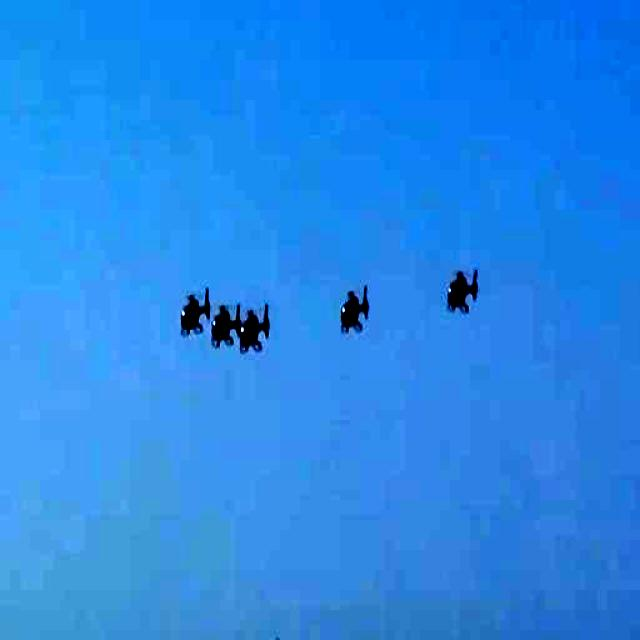drone: (332, 275, 379, 344), (175, 284, 216, 341), (239, 306, 280, 360), (446, 259, 481, 322), (211, 295, 244, 360)
